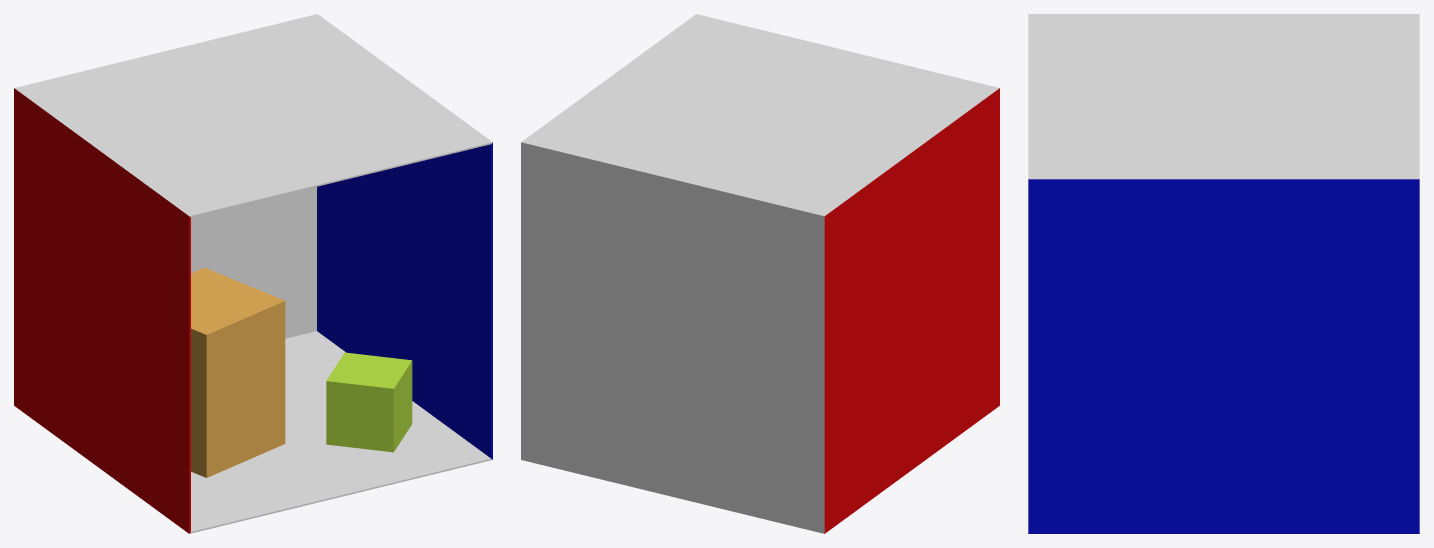
File: CornellBoxReal.glb
3 renders of one model, left to right at view 1: azimuth 30°, elevation 25°; view 2: azimuth 150°, elevation 25°; view 3: azimuth 270°, elevation 25°, orthographic. The views are drawn at different scales.
Visible parts, largest first — view 1: Cube, Cube.002, Cube.001; view 2: Cube; view 3: Cube.
Boxes of the visible parts, bbox=[...] form: Cube: bbox=[14, 14, 492, 533]; Cube.002: bbox=[191, 267, 285, 477]; Cube.001: bbox=[326, 352, 412, 452]; Cube: bbox=[521, 14, 999, 533]; Cube: bbox=[1028, 14, 1419, 533].
Bounding box in the file's own units: 2 × 2 × 2.
